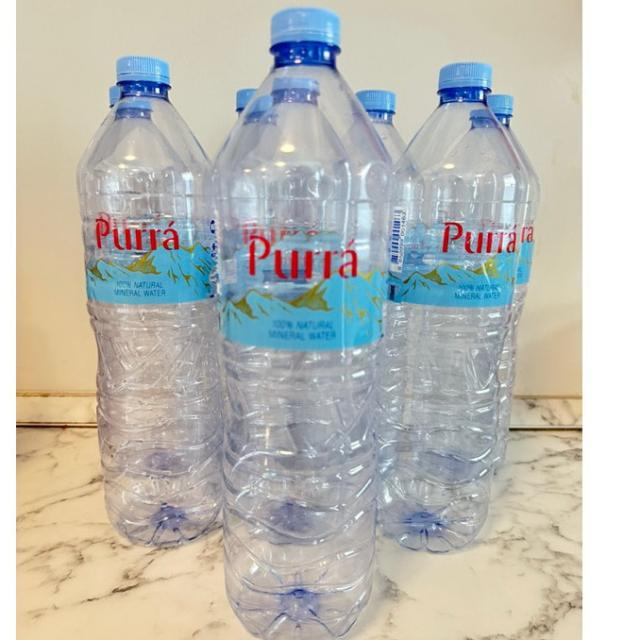plastik: (216, 7, 392, 640), (77, 57, 222, 546), (379, 63, 523, 552)
